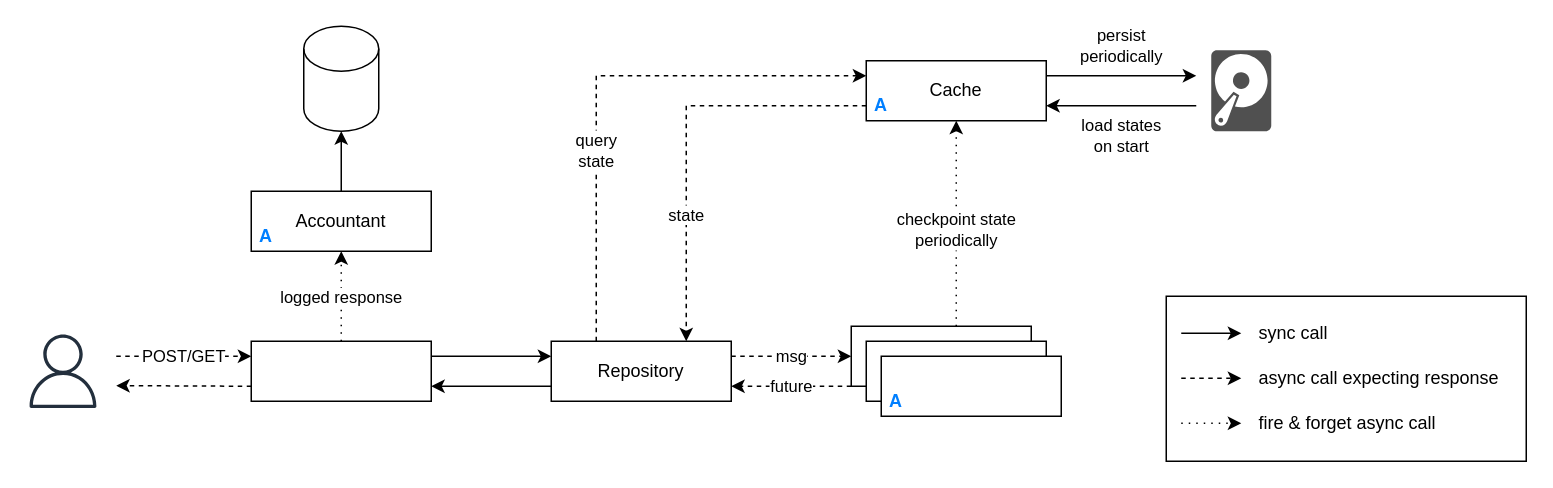
The diagram is 1553 pixels wide and 488 high, and some of its shapes have lost their labels. Each missing label, with the box of its shape:
Experiment: (880, 355, 1061, 416)
Http server: (250, 340, 431, 401)
Logs db: (302, 25, 379, 131)
